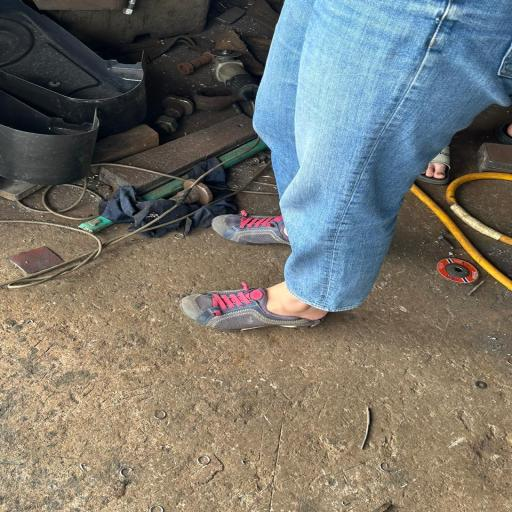not_safety_shoe: (160, 274, 328, 347), (202, 203, 294, 250)
